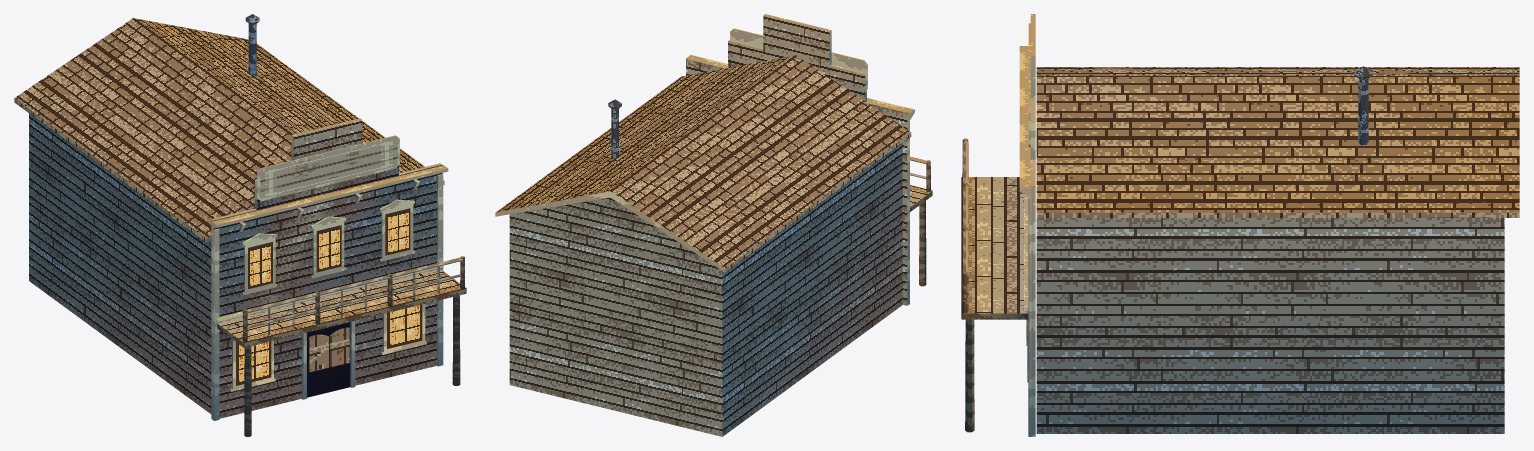
The model's file is wtown.saloon.glb.
3 renders of one model, left to right at view 1: azimuth 30°, elevation 25°; view 2: azimuth 150°, elevation 25°; view 3: azimuth 270°, elevation 25°, orthographic. The views are drawn at different scales.
Parts seen in each view (by area): view 1: kit_roof, kit_body, kit_front, kit_card_panes, kit_balcony, kit_trim, kit_windows, kit_door, kit_stovepipe; view 2: kit_body, kit_roof, kit_front, kit_trim, kit_balcony, kit_stovepipe; view 3: kit_body, kit_roof, kit_balcony, kit_trim, kit_front, kit_stovepipe.
Part boxes in pixels (x1,y1,x2,y2): kit_roof: (14, 18, 444, 242); kit_body: (29, 113, 399, 413); kit_front: (211, 118, 442, 419); kit_card_panes: (236, 138, 422, 397); kit_balcony: (217, 256, 466, 436); kit_trim: (211, 135, 448, 420); kit_windows: (230, 199, 426, 391); kit_door: (309, 327, 349, 372); kit_stovepipe: (245, 14, 259, 75); kit_body: (509, 143, 902, 436); kit_roof: (495, 55, 911, 272); kit_front: (686, 14, 909, 305); kit_trim: (686, 28, 914, 304); kit_balcony: (910, 156, 932, 286); kit_stovepipe: (608, 99, 621, 158); kit_body: (1036, 218, 1504, 433); kit_roof: (1036, 67, 1519, 217); kit_balcony: (961, 138, 1028, 432); kit_trim: (1019, 23, 1031, 436); kit_front: (1030, 14, 1035, 436); kit_stovepipe: (1354, 66, 1372, 145).
Bounding box in the file's own units: 8.1 × 8.7 × 13.12.
Materials: 12 (12 with a texture image).
